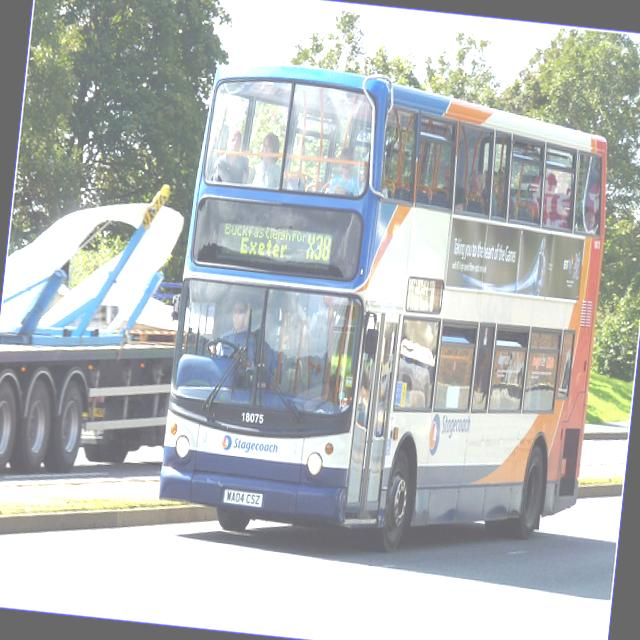Vehicle: (158, 55, 622, 572), (0, 171, 190, 494)
